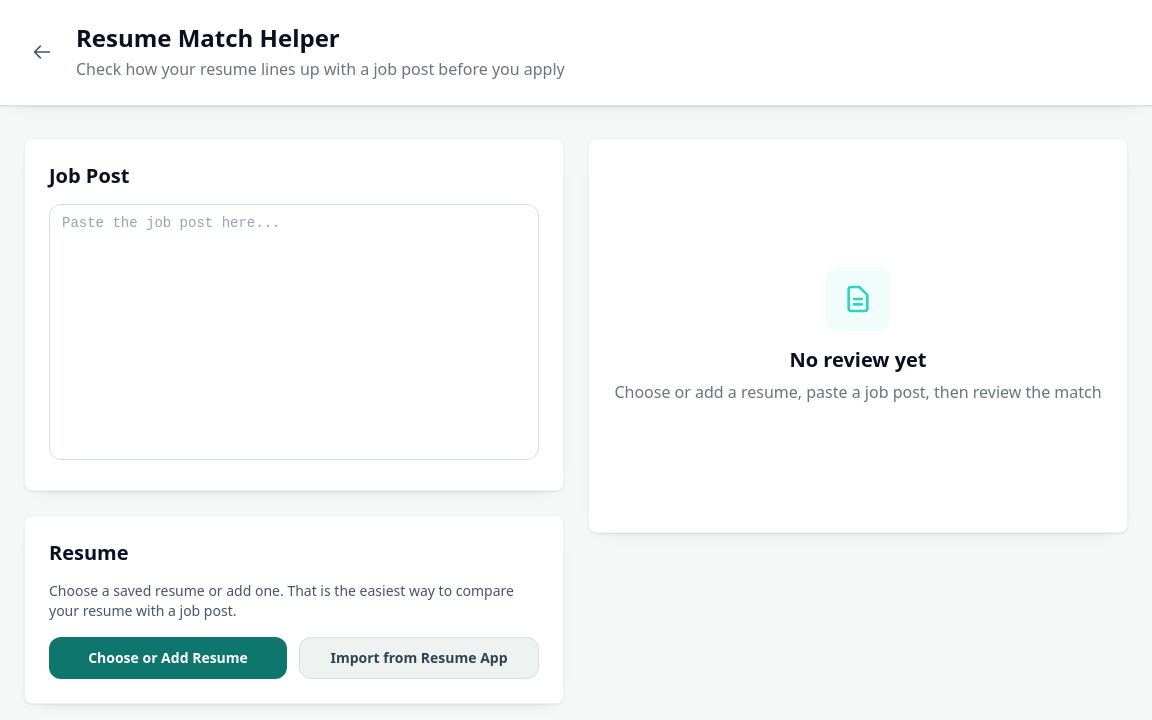
Test case: ResumeMatch › discloses same-session copied resume draft restore behavior
The width and height of the screenshot is (1152, 720).
Step 1. Click the button "Import from Resume App" → [419, 658], box [299,637,539,679]
(page scrolled)
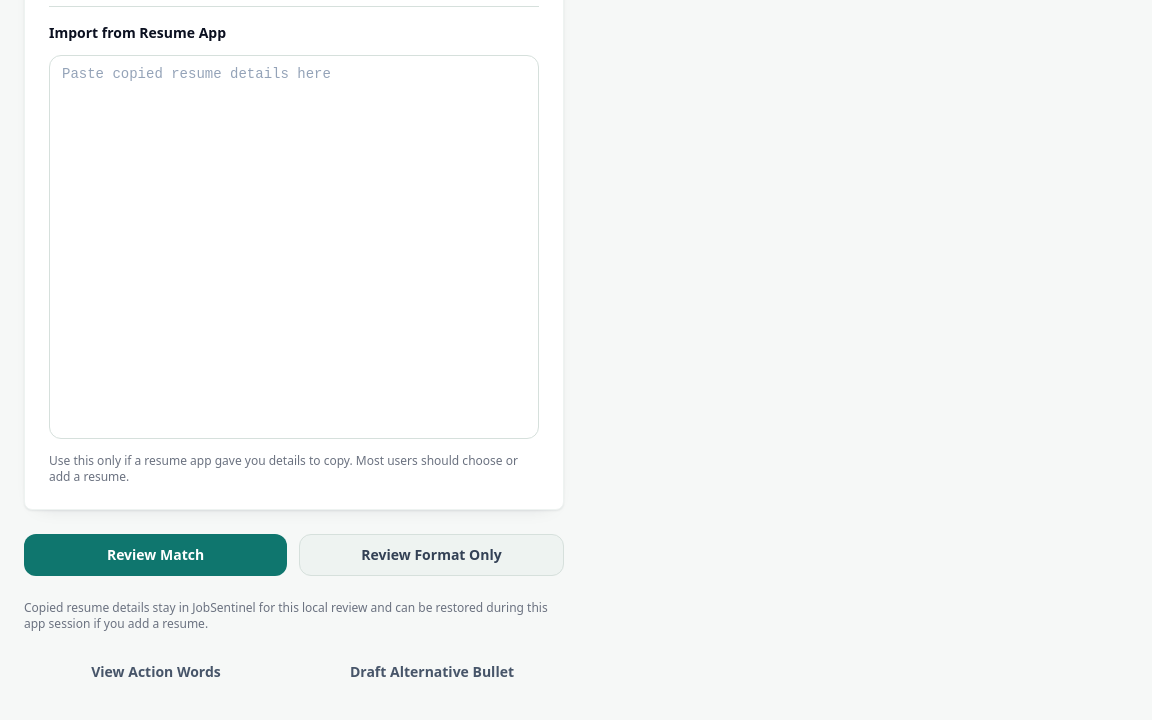
Now the text "can be restored during this app session" is shown, box [24,599,548,632]
